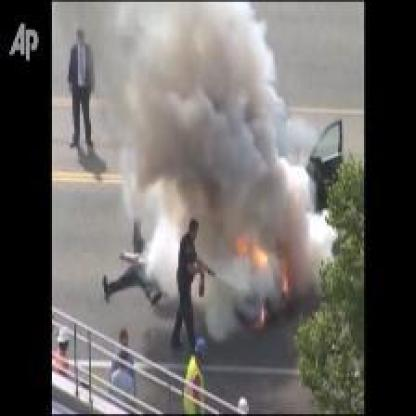smoke: (85, 2, 345, 319)
